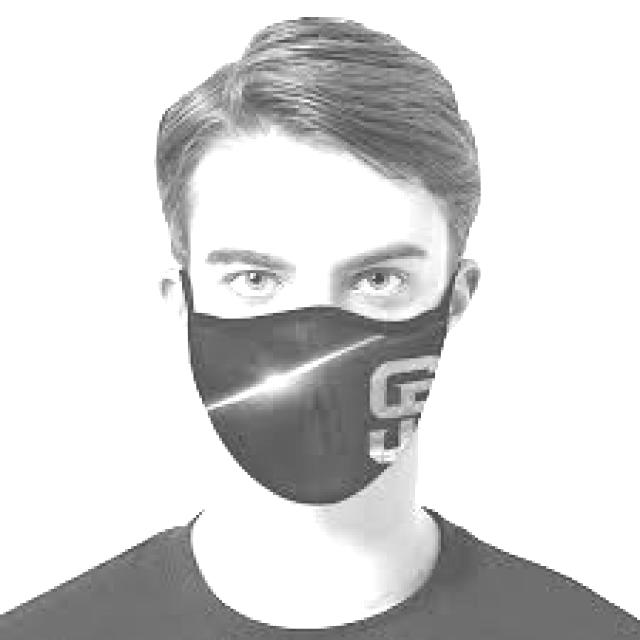fake: (177, 298, 460, 508)
real: (185, 125, 452, 515)
